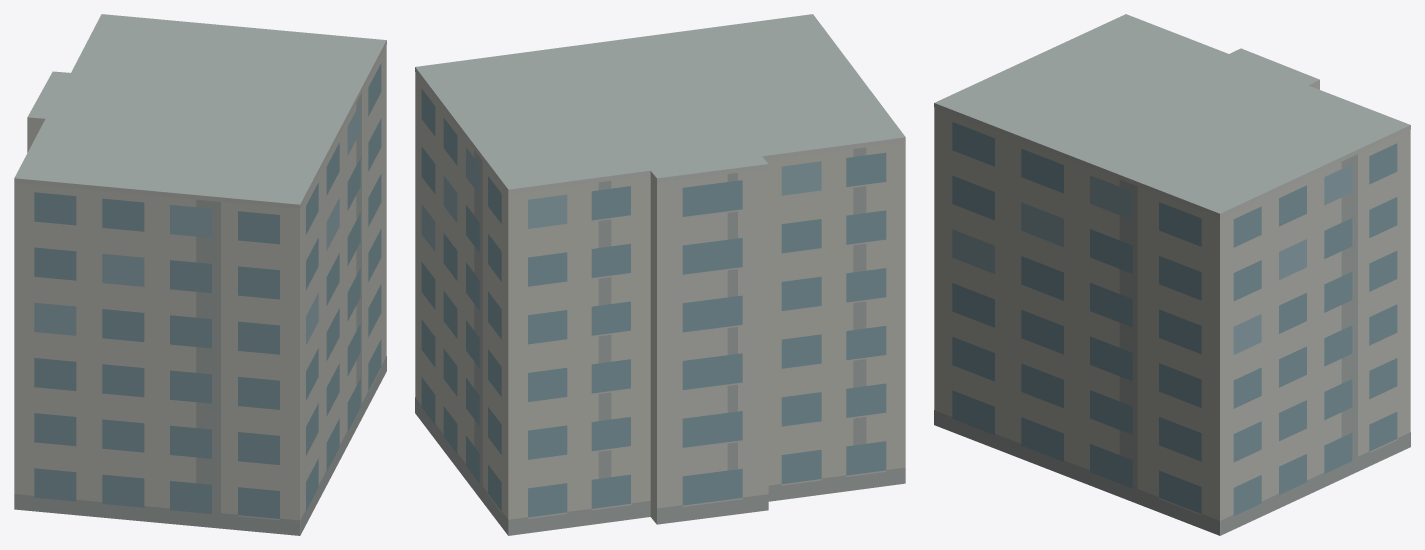
Rendered from survey-upis-33025570.glb.
The picture shows the model from 3 angles, left to right: view 1: azimuth 30°, elevation 25°; view 2: azimuth 150°, elevation 25°; view 3: azimuth 270°, elevation 25°; orthographic projection. The views are drawn at different scales.
Visible parts, largest first — view 1: survey-upis-33025570.tmp; view 2: survey-upis-33025570.tmp; view 3: survey-upis-33025570.tmp.
Boxes of the visible parts, x1,y1,x2,y2 form: survey-upis-33025570.tmp: (14, 14, 386, 535); survey-upis-33025570.tmp: (415, 14, 905, 535); survey-upis-33025570.tmp: (934, 14, 1410, 535).
Bounding box in the file's own units: 23.15 × 17.4 × 23.34.
